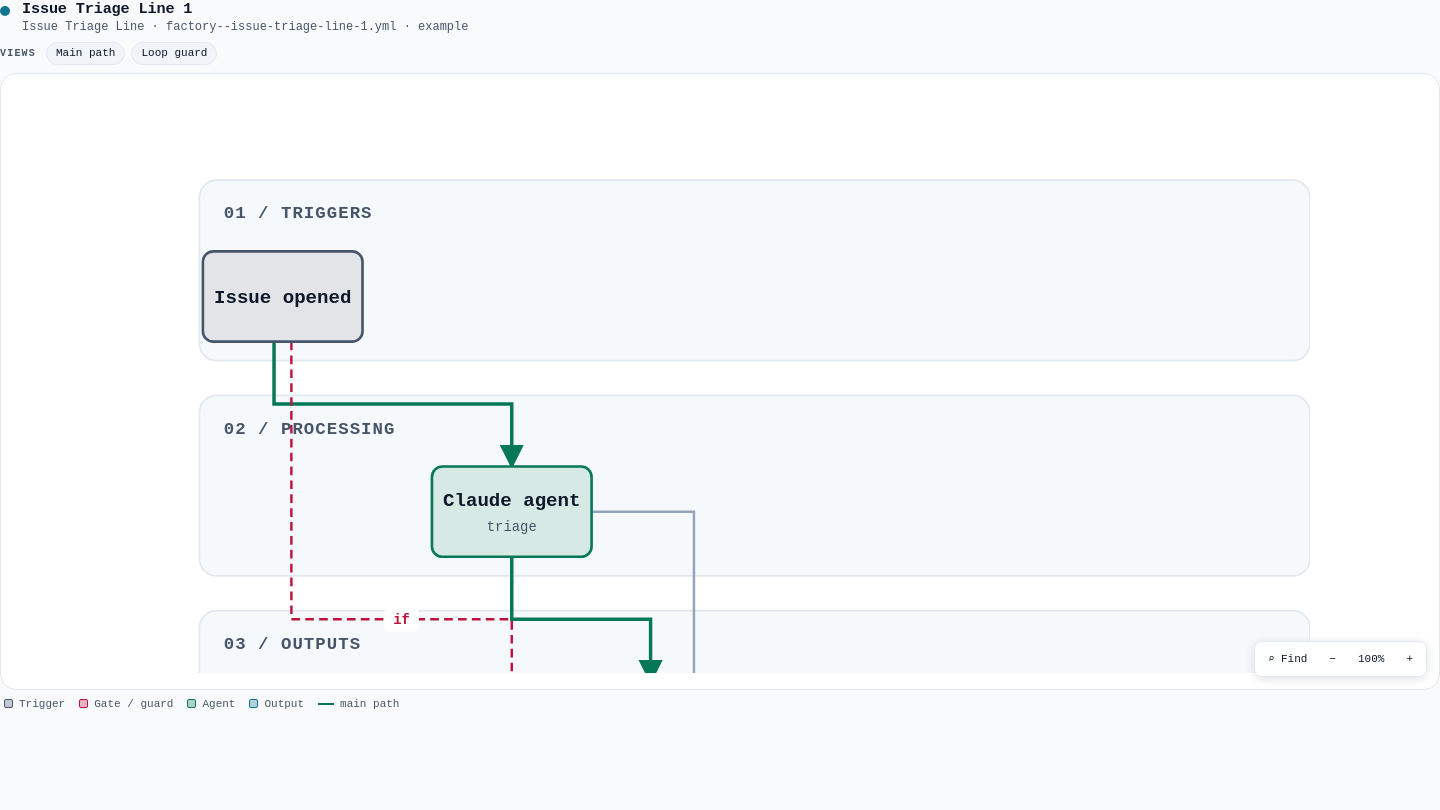
it: MapView › opens the finder on `/`, filters, and focuses the chosen node into a passport
Press / in the element with class "map"
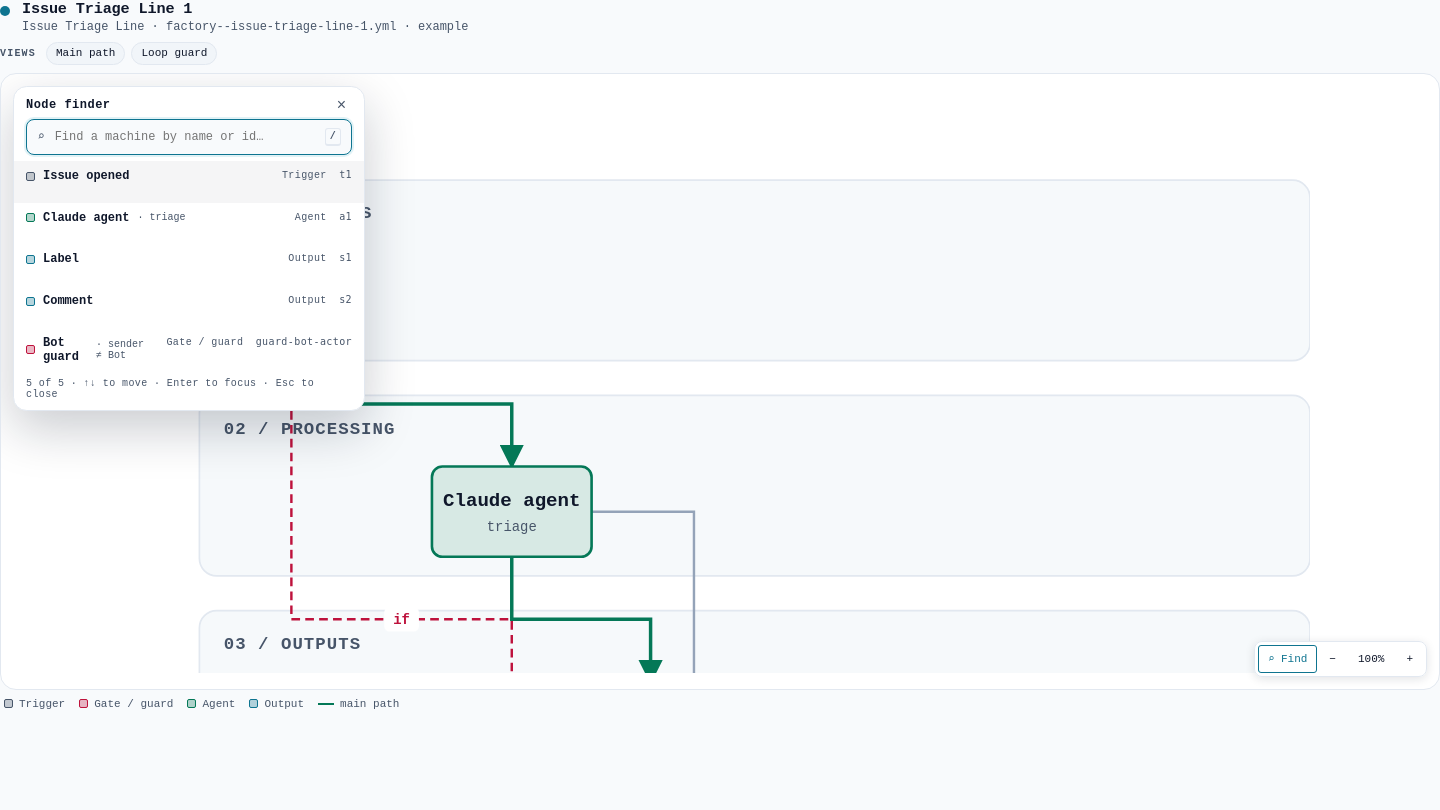
Type "guard" into the search field at (185, 137), box [53,129,317,145]
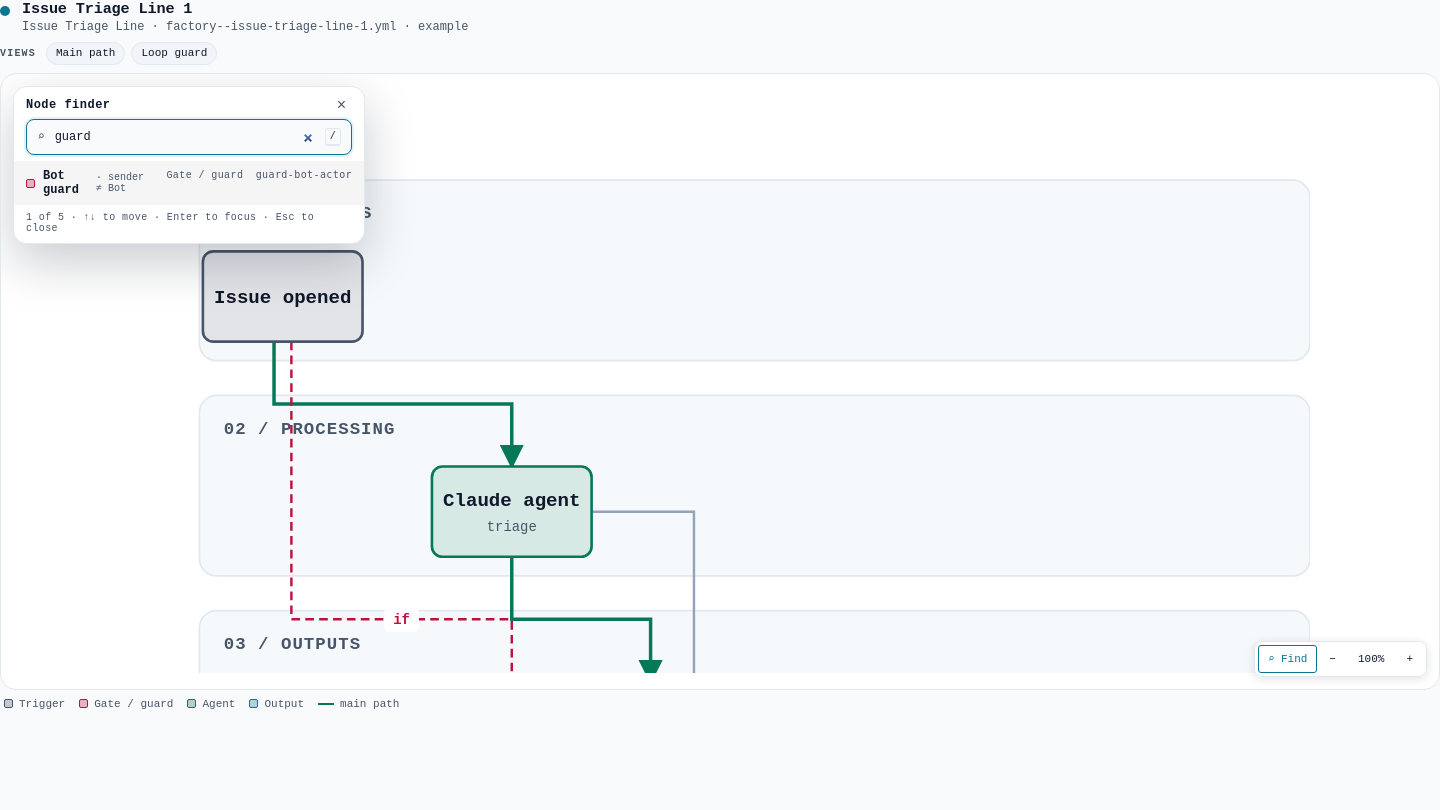
Expected: the option shows "Bot guard", [14,161,364,205]
Expected: the number of options is 1, [14,161,364,205]
Press Enter in the dialog "Node finder", box [13,86,365,244]
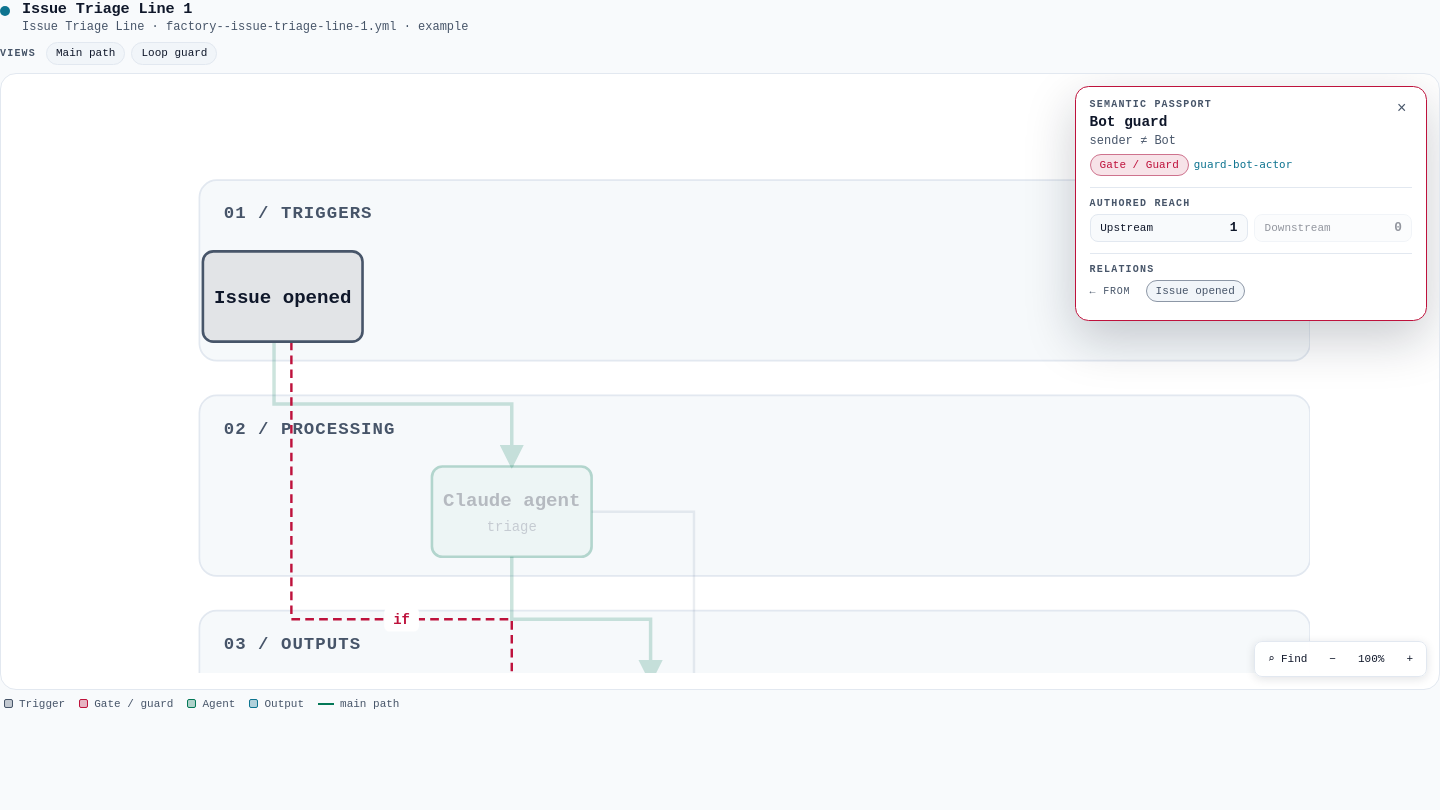
Expected: the text "guard-bot-actor" is shown, [1194,158,1292,171]
Expected: the text "Gate / guard" is shown, [1090,154,1189,176]
Expected: the text "Node finder" is gone
Note: Escape closes the passport (nothing else is open).
Press Escape in the element with class "map"
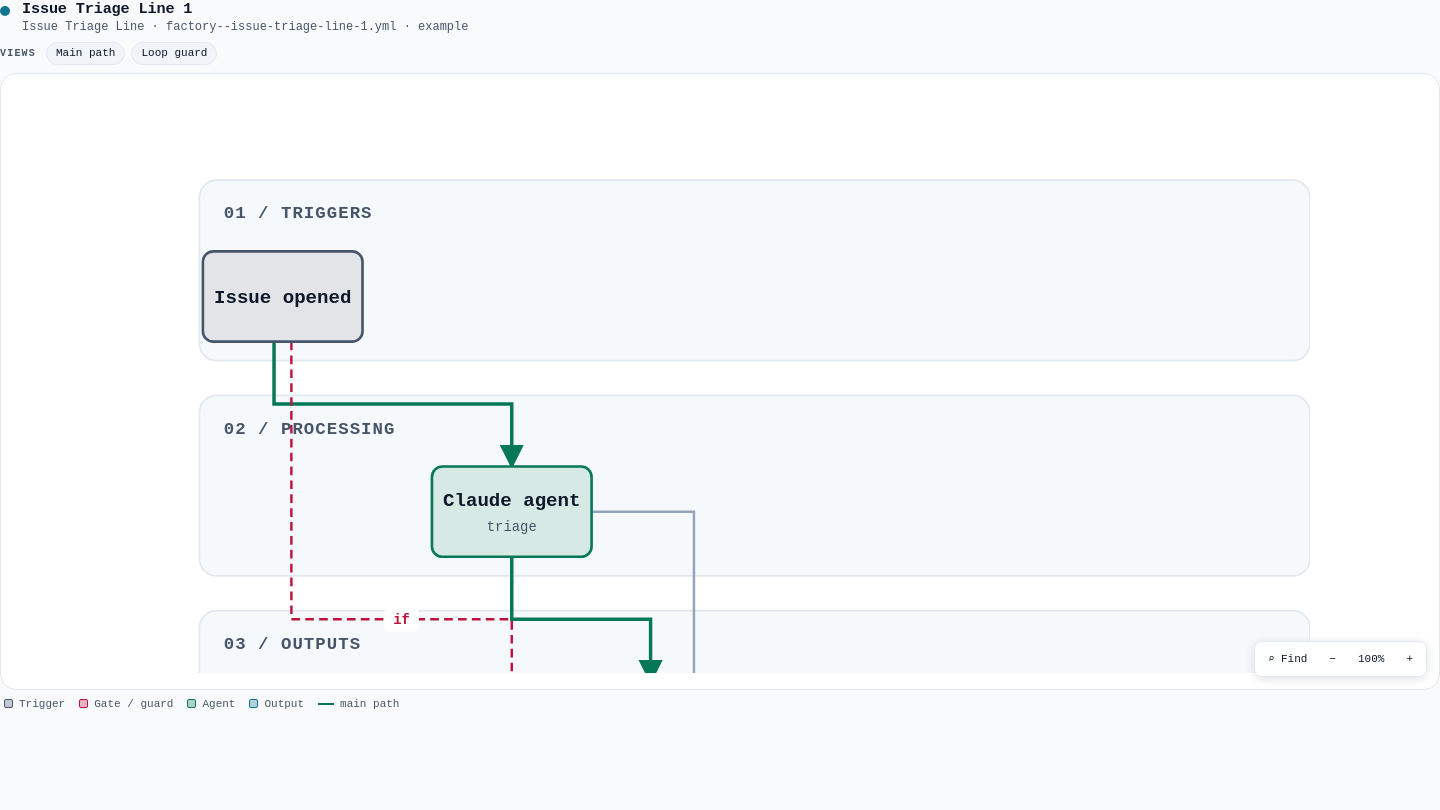
Expected: the text "Semantic passport" is gone
